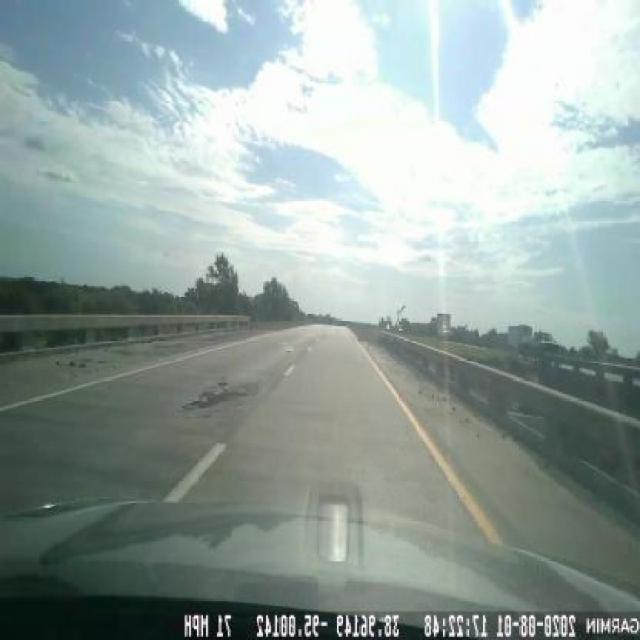pothole: (180, 376, 258, 416)
